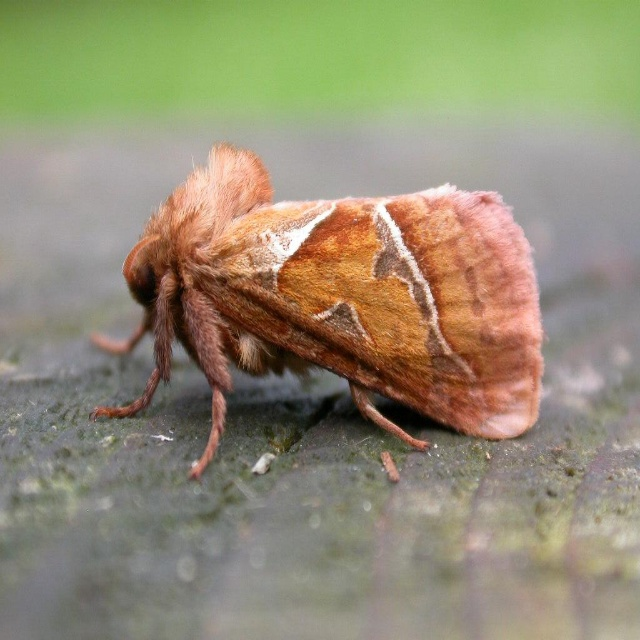Moths and butterflies: (85, 139, 548, 476)
